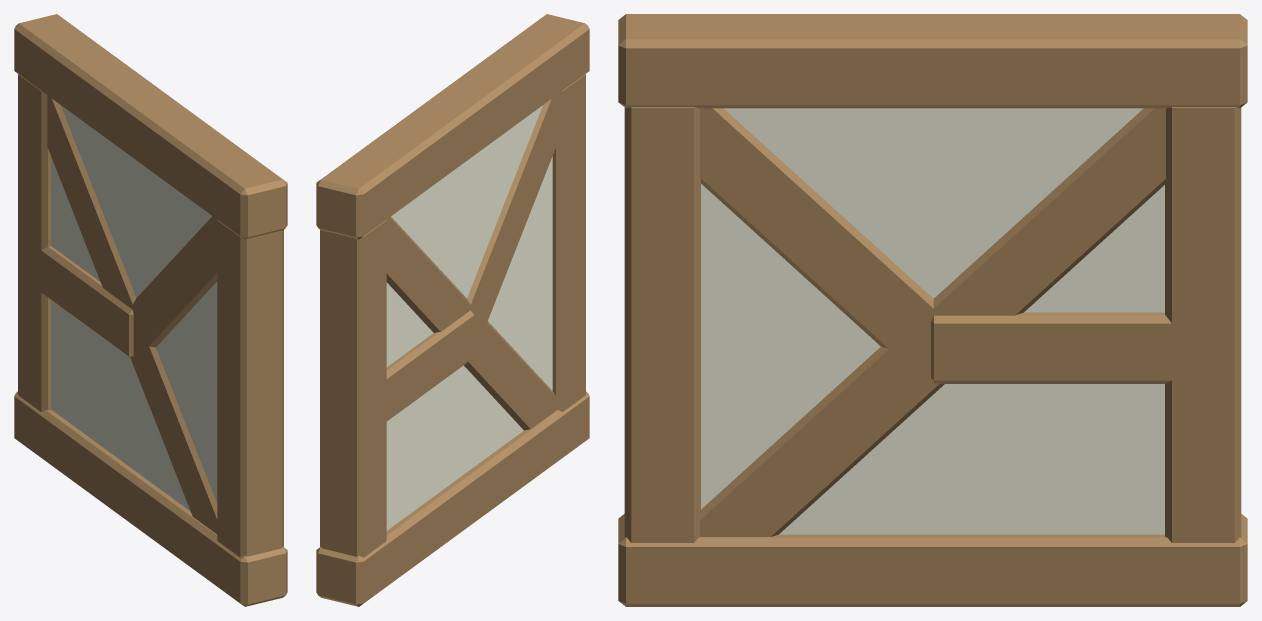
Rendered from BaseWall_7.fbx.
3 renders of one model, left to right at view 1: azimuth 30°, elevation 25°; view 2: azimuth 150°, elevation 25°; view 3: azimuth 270°, elevation 25°, orthographic. The views are drawn at different scales.
Parts seen in each view (by area): view 1: BaseWall_7; view 2: BaseWall_7; view 3: BaseWall_7.
Boxes of the visible parts, x1,y1,x2,y2 form: BaseWall_7: (14,14,287,606); BaseWall_7: (316,14,589,606); BaseWall_7: (618,14,1247,606).
Size of the model in its own units: 0.2753 by 2.32 by 2.33.
